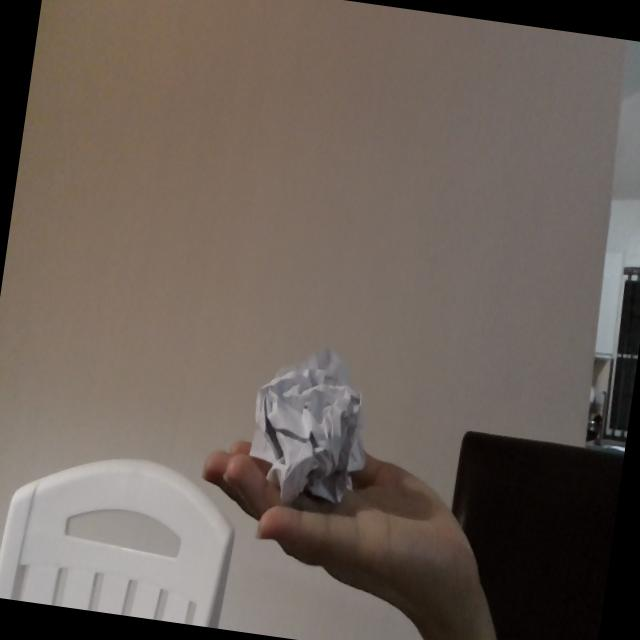crumpled_paper: (241, 332, 385, 516)
